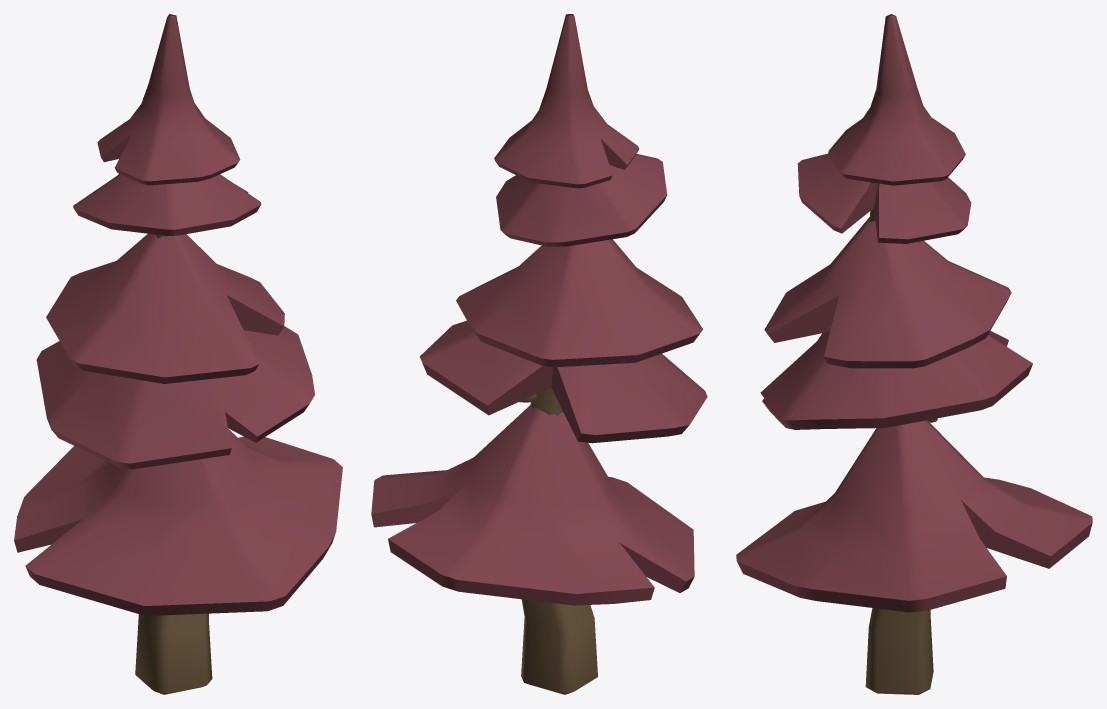
File: SAPIN.fbx
3 views of the same model, side by side, from view 1: azimuth 30°, elevation 25°; view 2: azimuth 150°, elevation 25°; view 3: azimuth 270°, elevation 25° (orthographic).
Parts seen in each view (by area): view 1: sapin; view 2: sapin; view 3: sapin.
Boxes of the visible parts, bbox=[...] form: sapin: bbox=[14, 14, 342, 694]; sapin: bbox=[371, 14, 707, 694]; sapin: bbox=[736, 14, 1092, 694].
Size of the model in its own units: 3.05 by 6.29 by 3.05.
